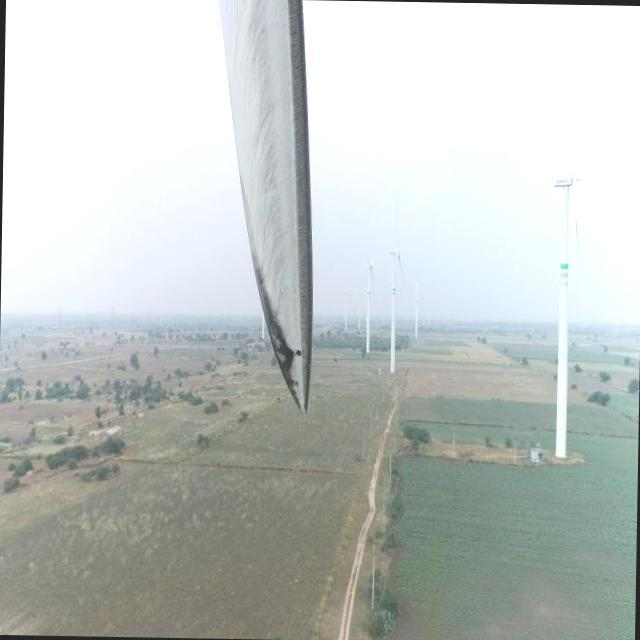Dirt: (220, 0, 315, 408)
Oil LEAKAGE: (252, 262, 305, 412)
Pin Hole: (293, 346, 305, 360)
